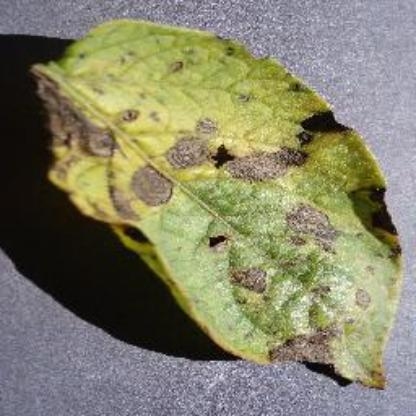Early-Blight: (27, 11, 415, 395)
